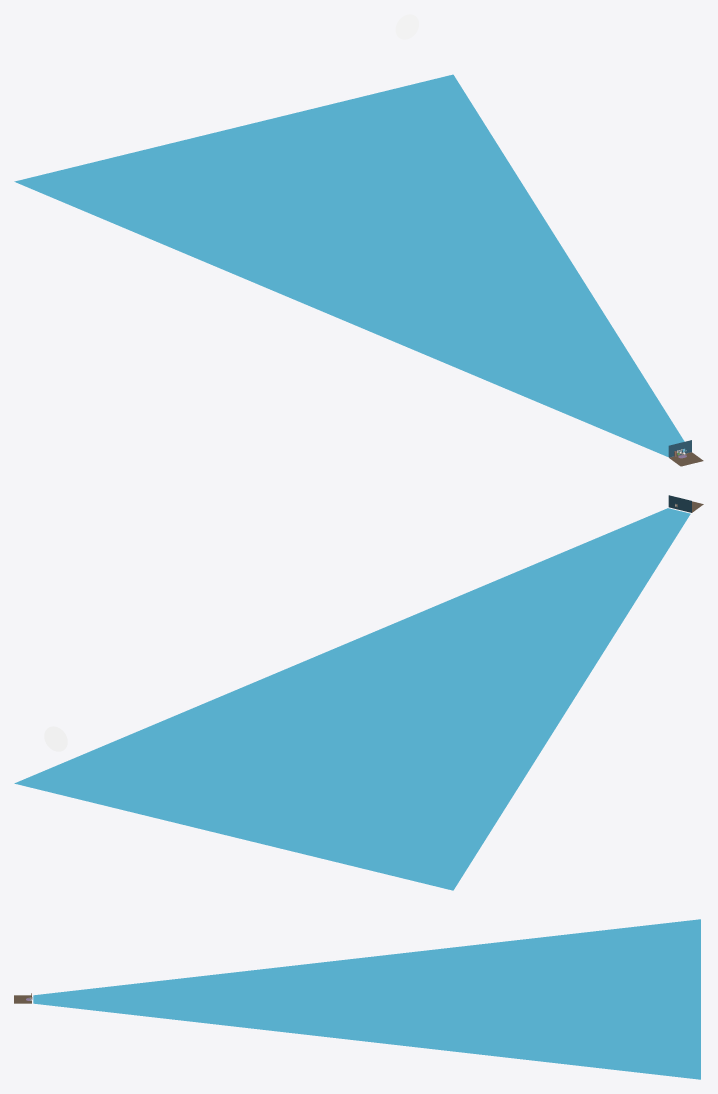
Rendered from hero_scene_blockout.glb.
3 views of the same model, one above another, from view 1: azimuth 30°, elevation 25°; view 2: azimuth 150°, elevation 25°; view 3: azimuth 270°, elevation 25° (orthographic). The views are drawn at different scales.
Visible parts, largest first — view 1: Ocean; view 2: Ocean; view 3: Ocean.
Part boxes in pixels (x1=…): Ocean: x1=14, y1=74, x2=685, y2=456; Ocean: x1=14, y1=508, x2=690, y2=890; Ocean: x1=33, y1=919, x2=700, y2=1079.
Bounding box in the file's own units: 163 × 24.45 × 296.
